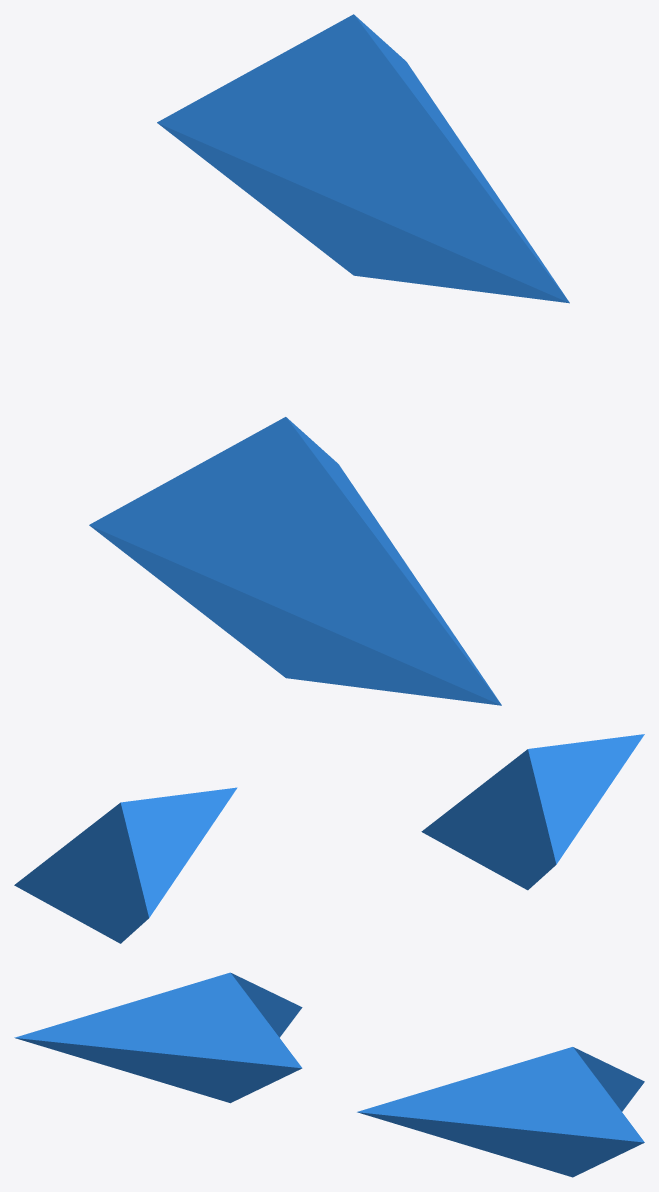
The model's file is MithrilArrowheadStack2.glb.
The picture shows the model from 3 angles, top to bottom: view 1: azimuth 30°, elevation 25°; view 2: azimuth 150°, elevation 25°; view 3: azimuth 270°, elevation 25°; orthographic projection. The views are drawn at different scales.
Parts seen in each view (by area): view 1: MithrilArrowheadStack2; view 2: MithrilArrowheadStack2; view 3: MithrilArrowheadStack2.
Part boxes in pixels (left/top/right/bottom): MithrilArrowheadStack2: left=89, top=14, right=569, bottom=705; MithrilArrowheadStack2: left=14, top=734, right=644, bottom=943; MithrilArrowheadStack2: left=14, top=972, right=644, bottom=1177.
Size of the model in its own units: 0.1336 by 0.0606 by 0.2211.
